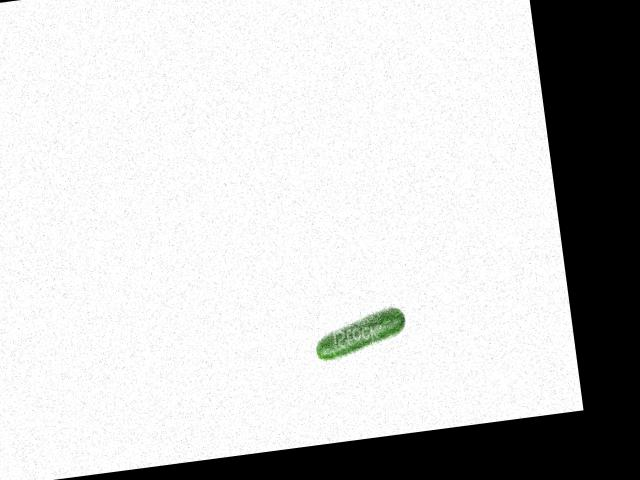cucumber: (312, 306, 409, 361)
